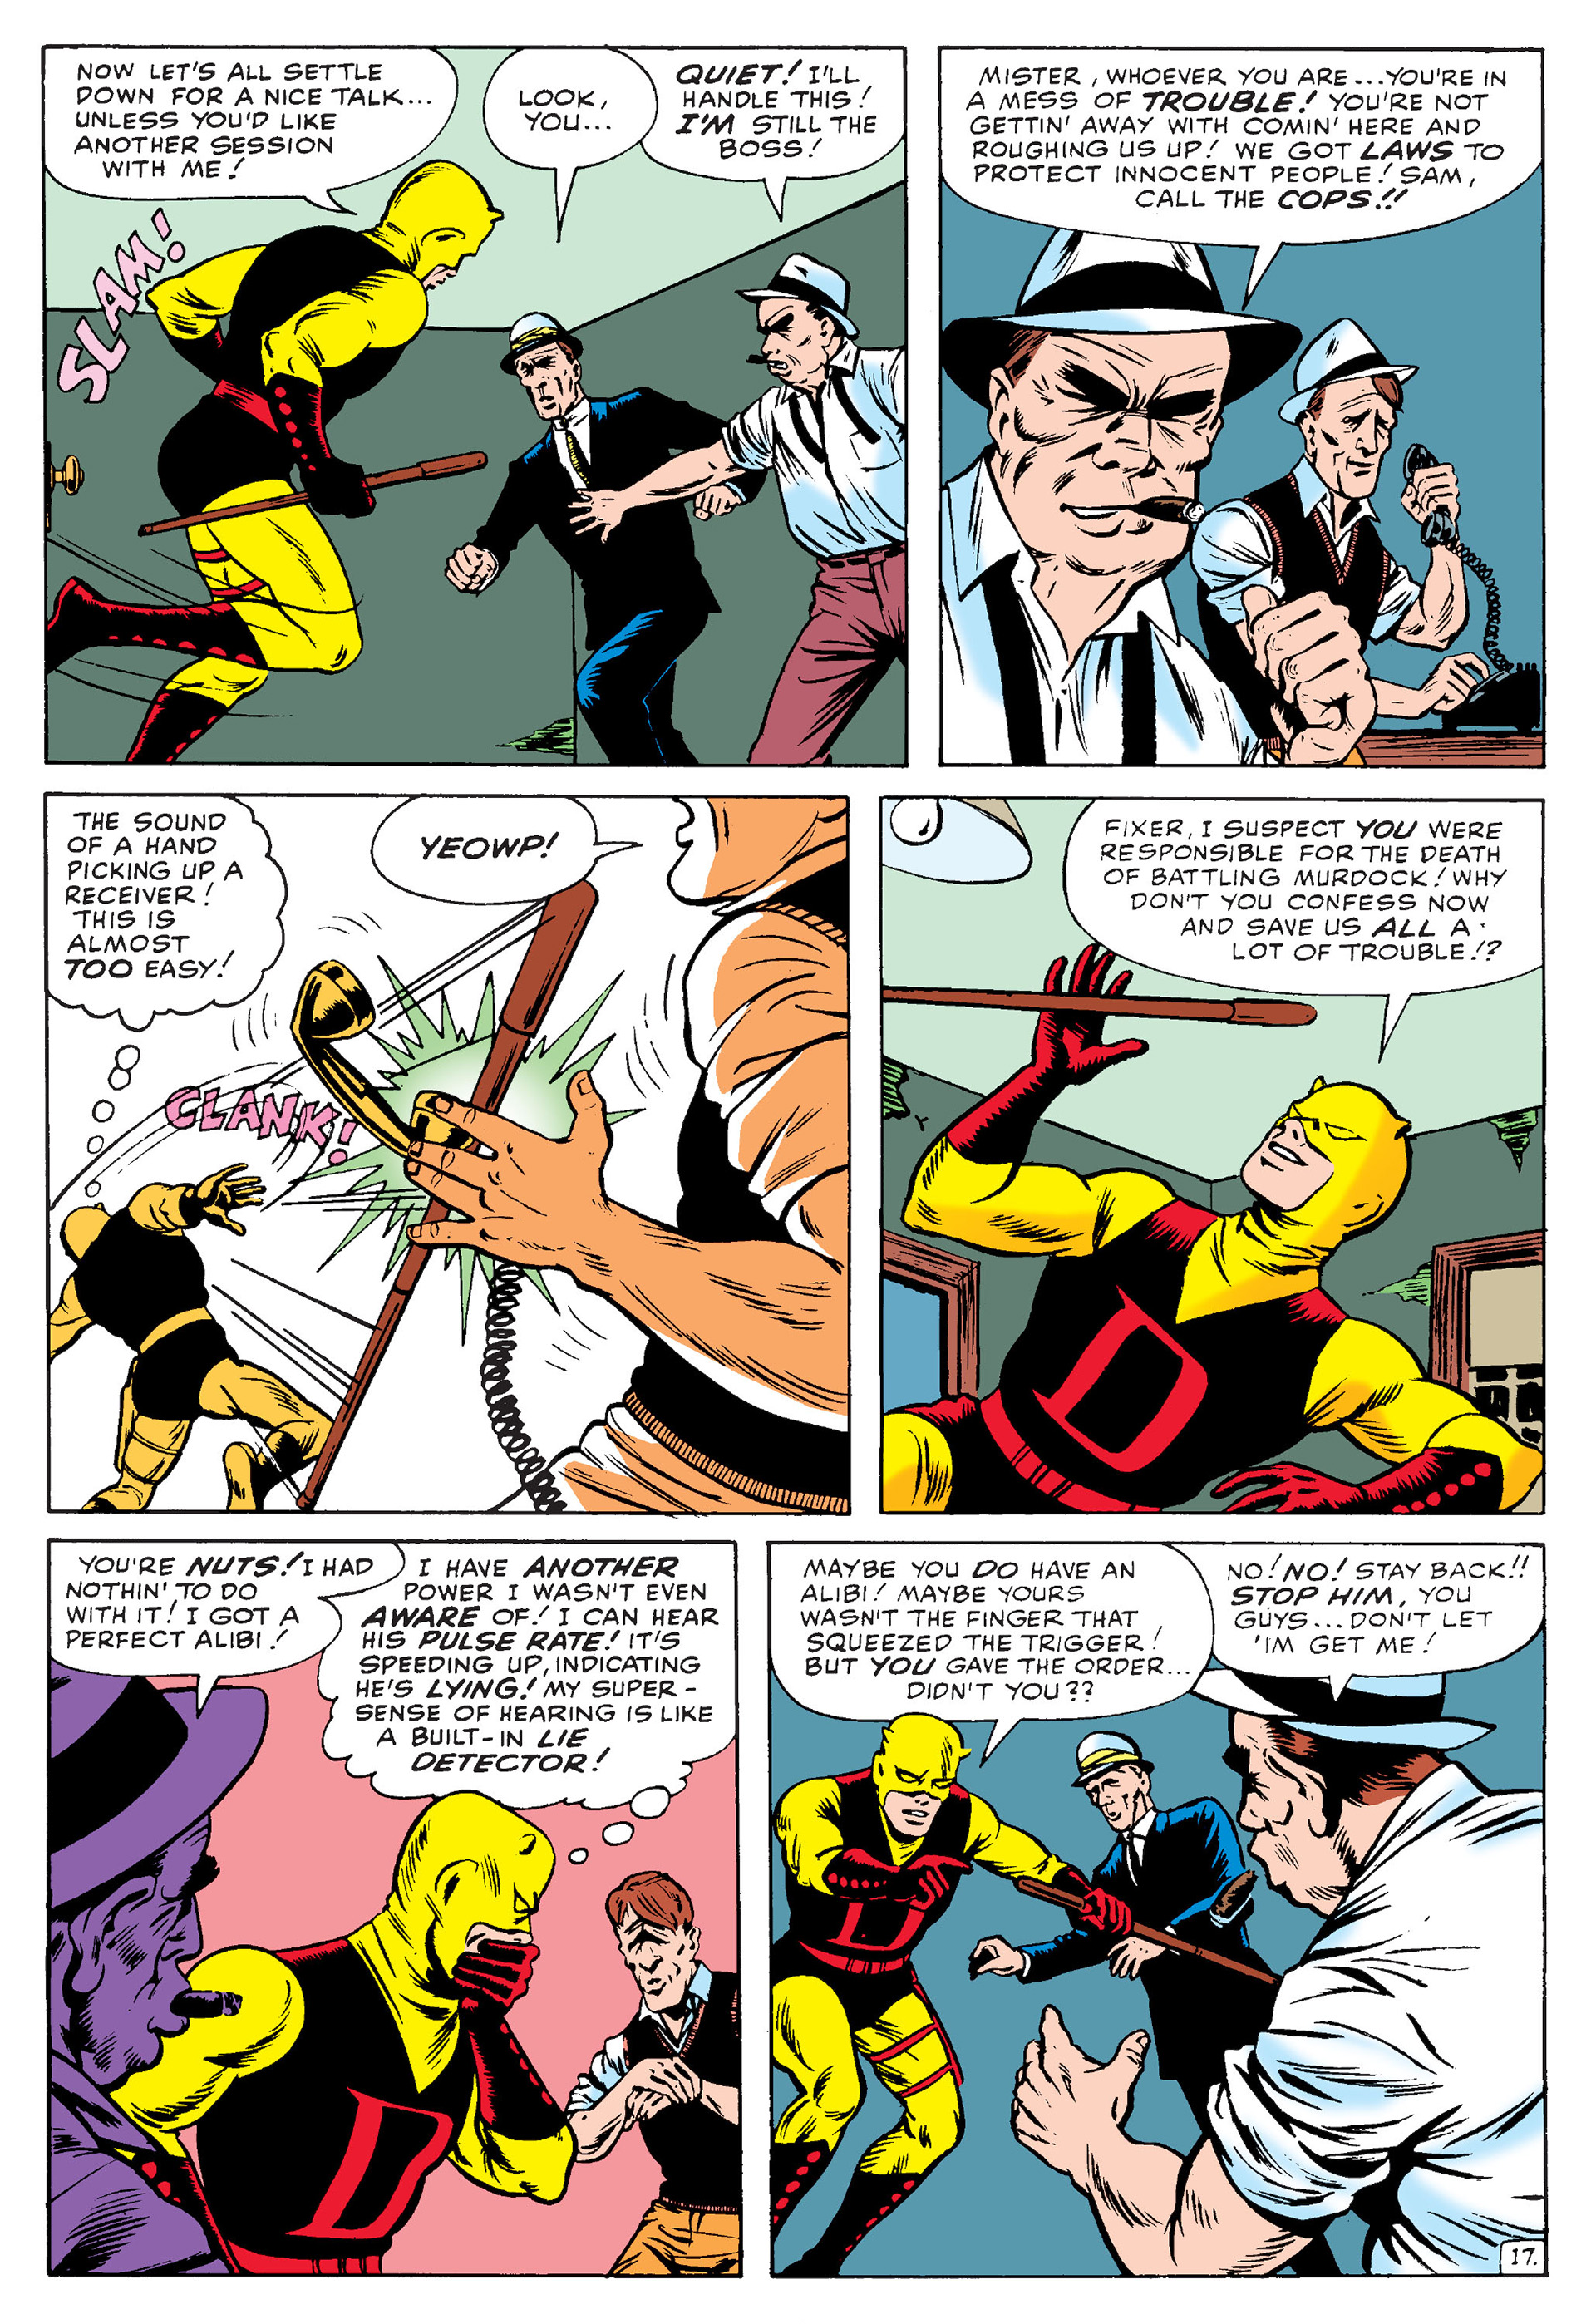Baloon: (943, 41, 1536, 286), (318, 1547, 742, 1822), (1066, 807, 1552, 1031), (773, 1547, 1215, 1750), (41, 44, 455, 203), (51, 793, 293, 1035), (48, 1542, 401, 1702), (1211, 1542, 1552, 1702), (648, 41, 915, 207), (355, 789, 655, 922), (484, 48, 655, 214)
Vignetta: (37, 44, 911, 772), (51, 796, 849, 1515), (766, 1536, 1547, 2271), (48, 1533, 734, 2278), (879, 800, 1540, 1519), (937, 44, 1543, 772)
